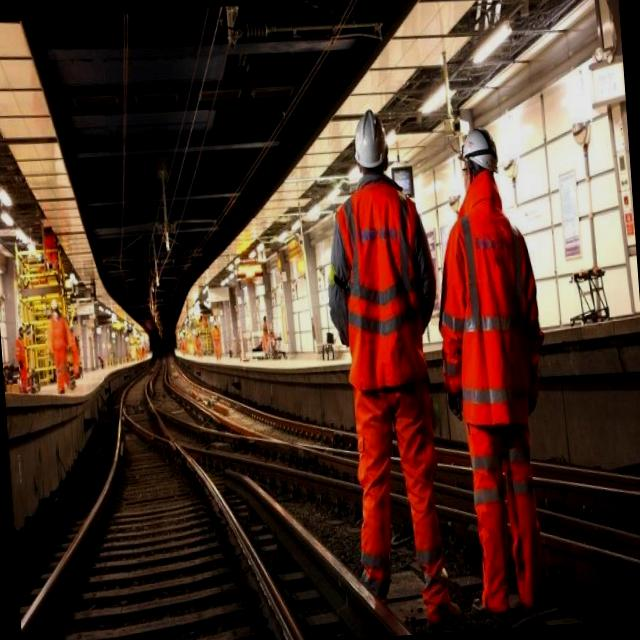helmet: (343, 102, 394, 188), (457, 127, 499, 183)
vest: (433, 162, 550, 432), (317, 176, 438, 396)
